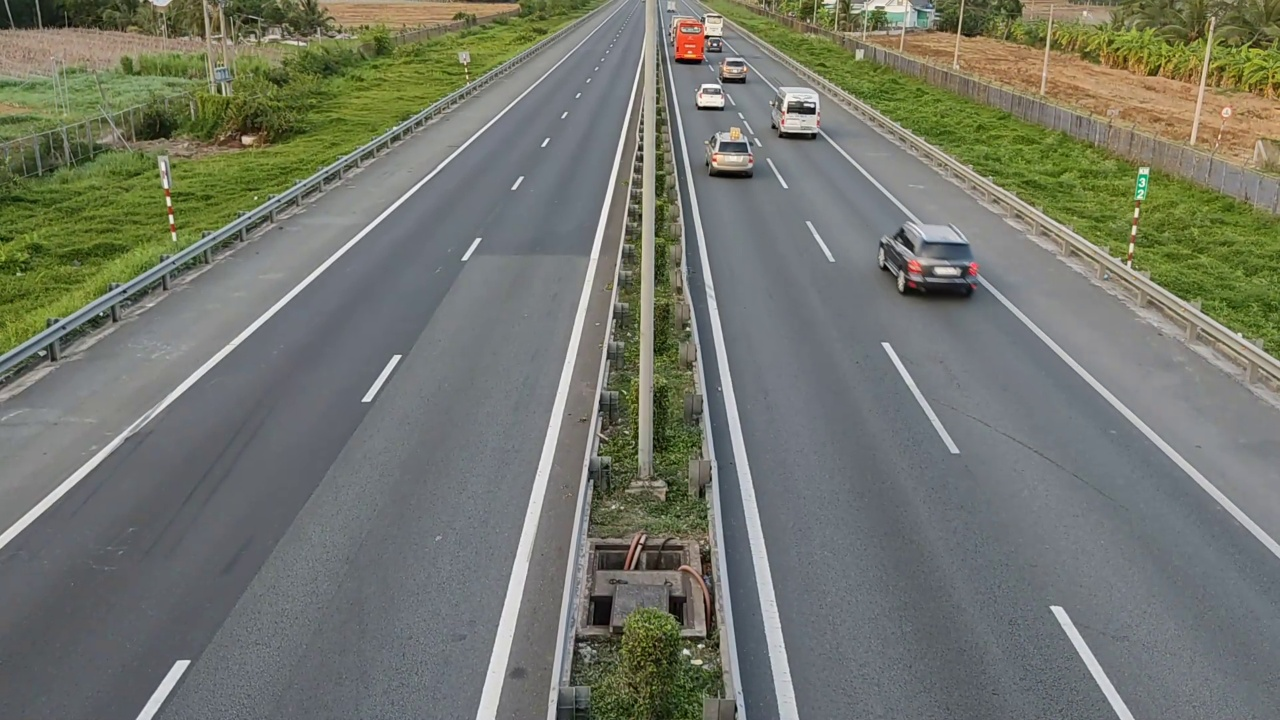car: (874, 214, 981, 304), (766, 81, 824, 140), (705, 131, 755, 177), (695, 83, 725, 110), (719, 57, 749, 83)
